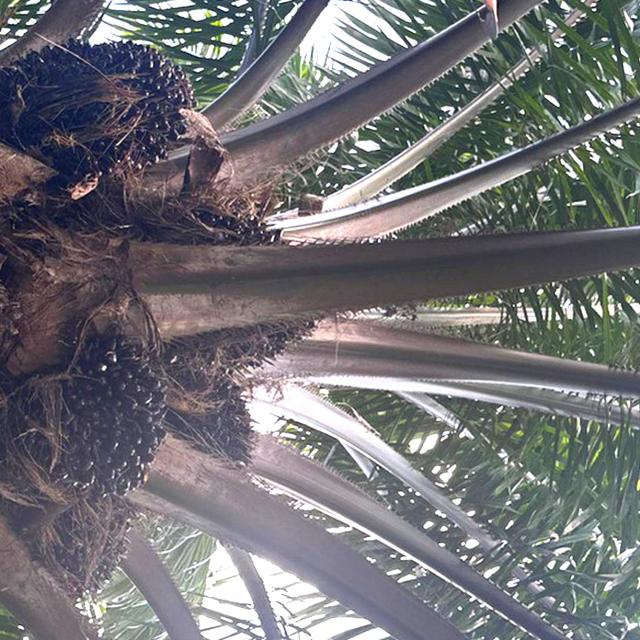unripe: (143, 197, 325, 387), (0, 29, 198, 173), (29, 335, 172, 506), (161, 357, 267, 472), (40, 496, 141, 603)
